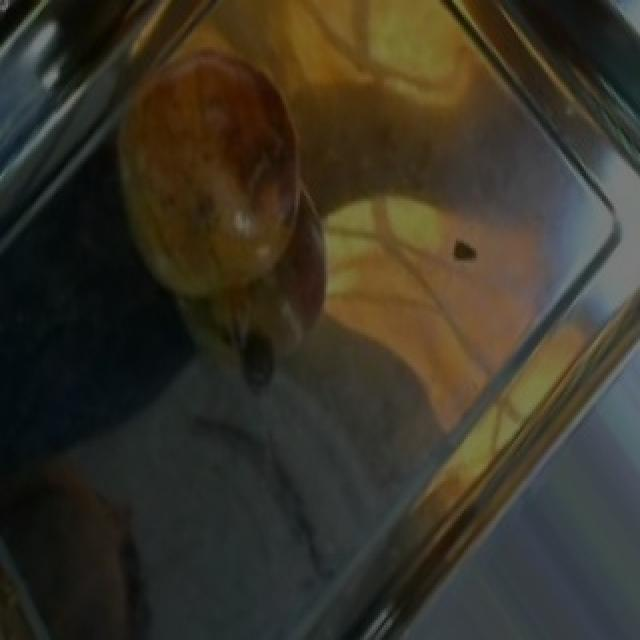fruit: (90, 17, 336, 310)
